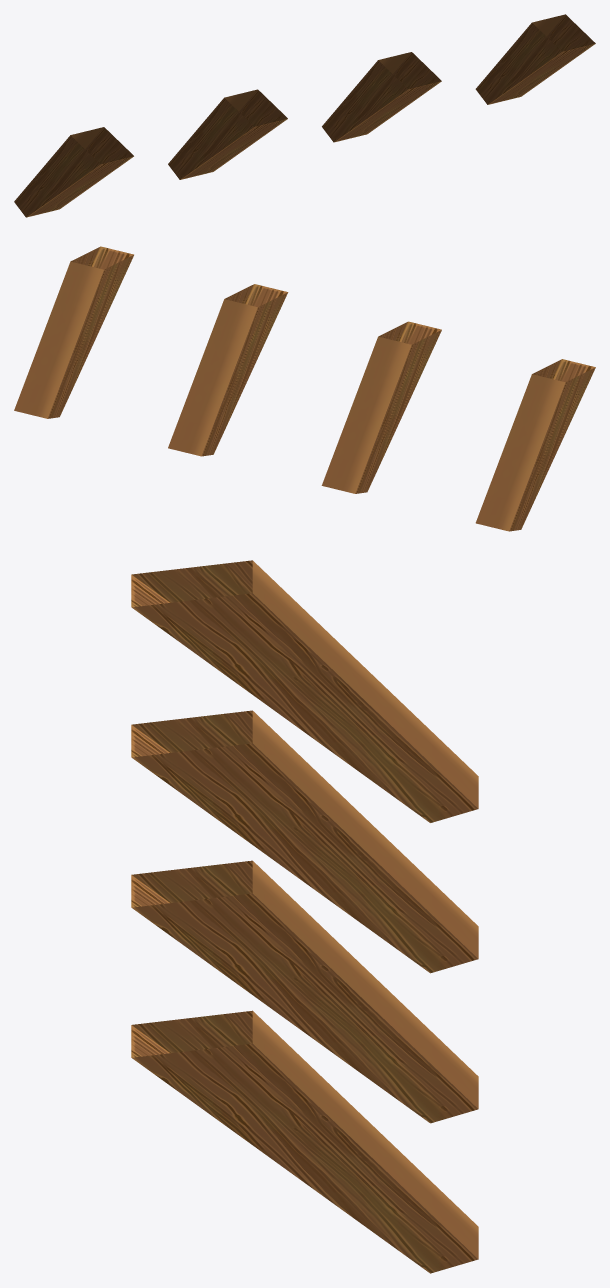
3 renders of one model, top to bottom at view 1: azimuth 30°, elevation 25°; view 2: azimuth 150°, elevation 25°; view 3: azimuth 270°, elevation 25°, orthographic. The views are drawn at different scales.
Parts seen in each view (by area): view 1: Cube.1396; view 2: Cube.1396; view 3: Cube.1396.
Boxes of the visible parts, x1,y1,x2,y2 form: Cube.1396: (14, 14, 595, 217); Cube.1396: (14, 246, 595, 531); Cube.1396: (131, 560, 478, 1273).
Size of the model in its own units: 581 by 129 by 176.
1 material, 1 textured.
